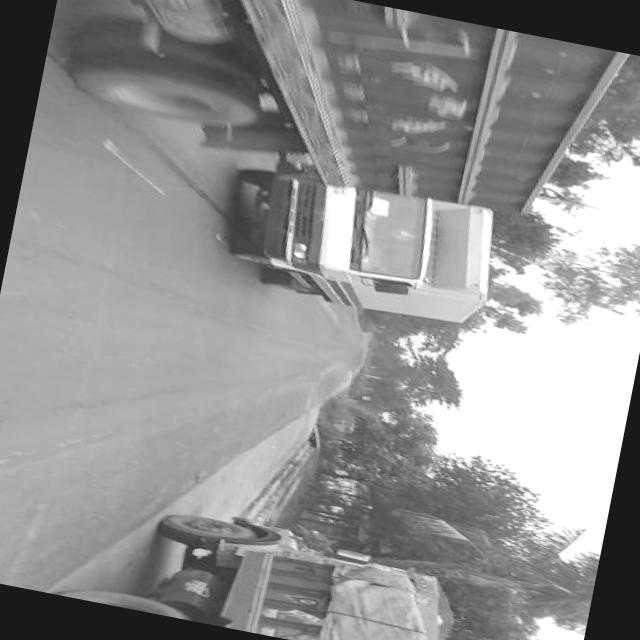truck: (38, 0, 637, 238), (54, 483, 474, 640), (203, 158, 508, 340)
